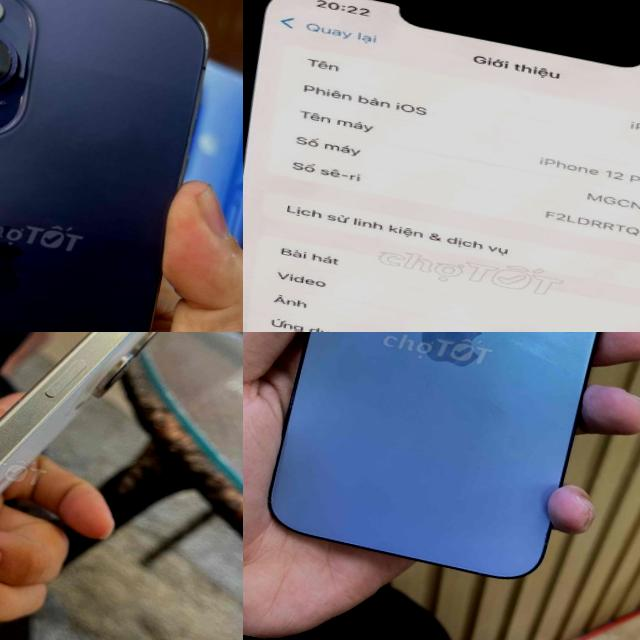gen_12_13: (243, 0, 640, 332), (249, 332, 637, 598)
gen_14: (0, 0, 243, 332)
gen_15: (0, 332, 197, 640)
